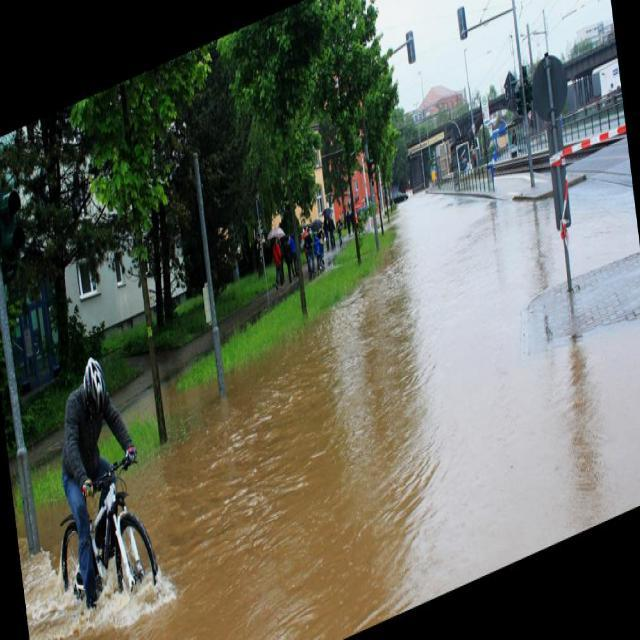flood: (0, 101, 639, 638)
